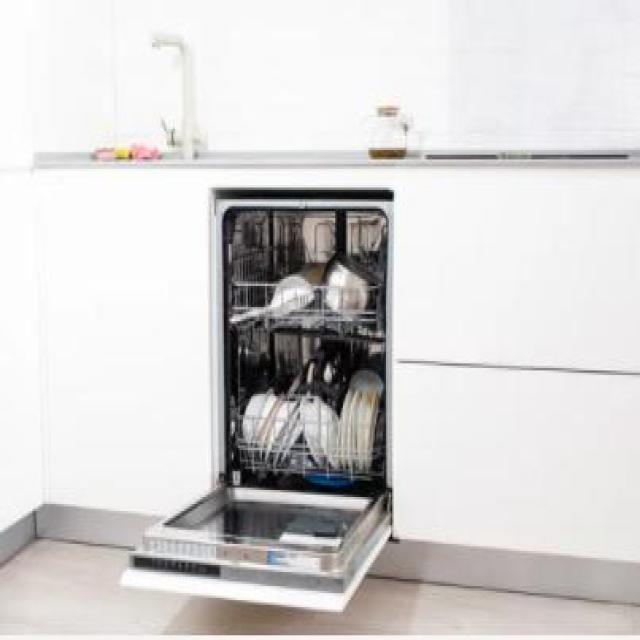dishwasher: (114, 180, 402, 619)
